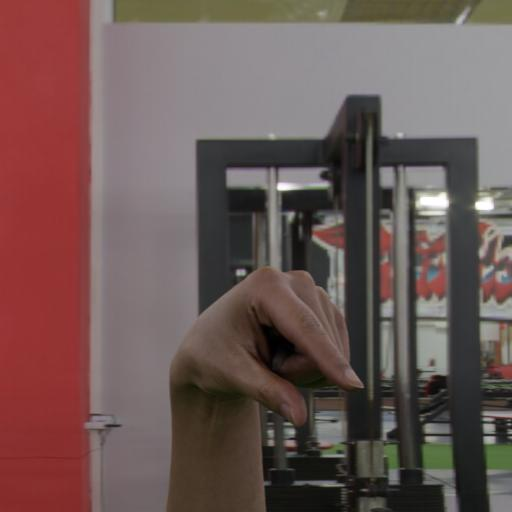Q: (152, 242, 374, 464)
